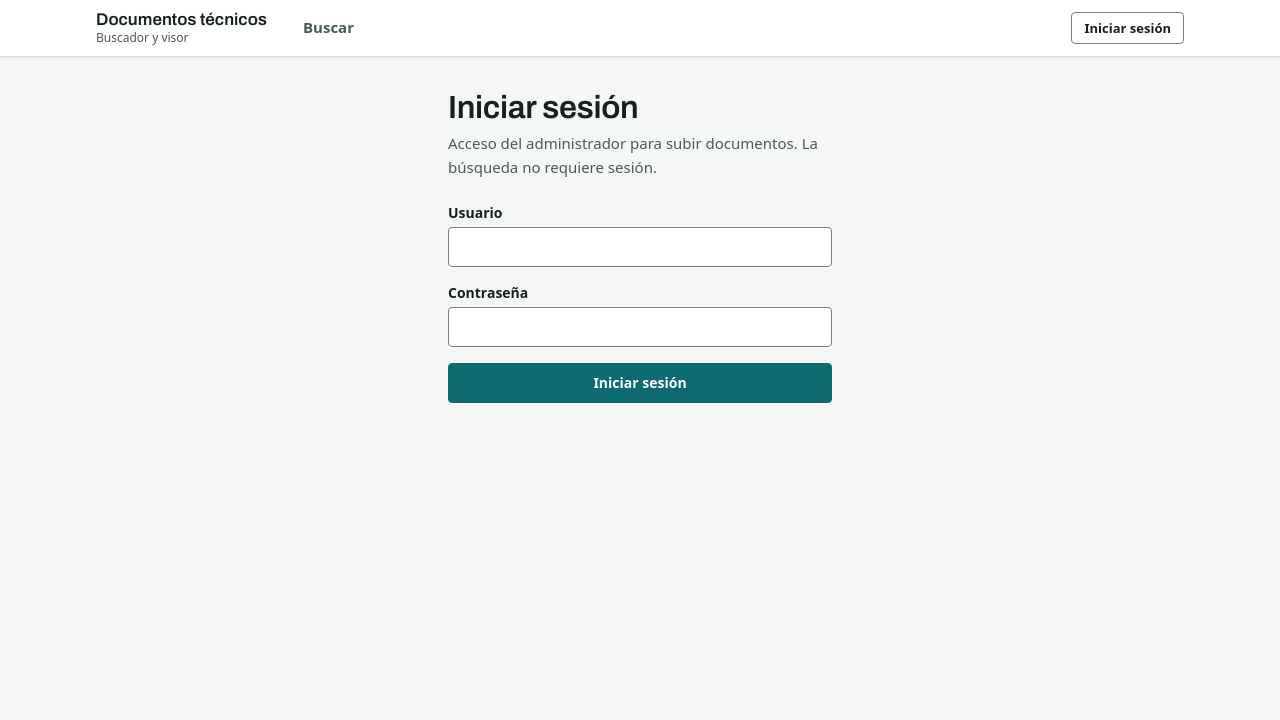
Scenario: Sesión del administrador › sin conexión con la API muestra un mensaje en español
Type "admin" into the field labelled "Usuario" at (640, 247), box [448,227,832,267]
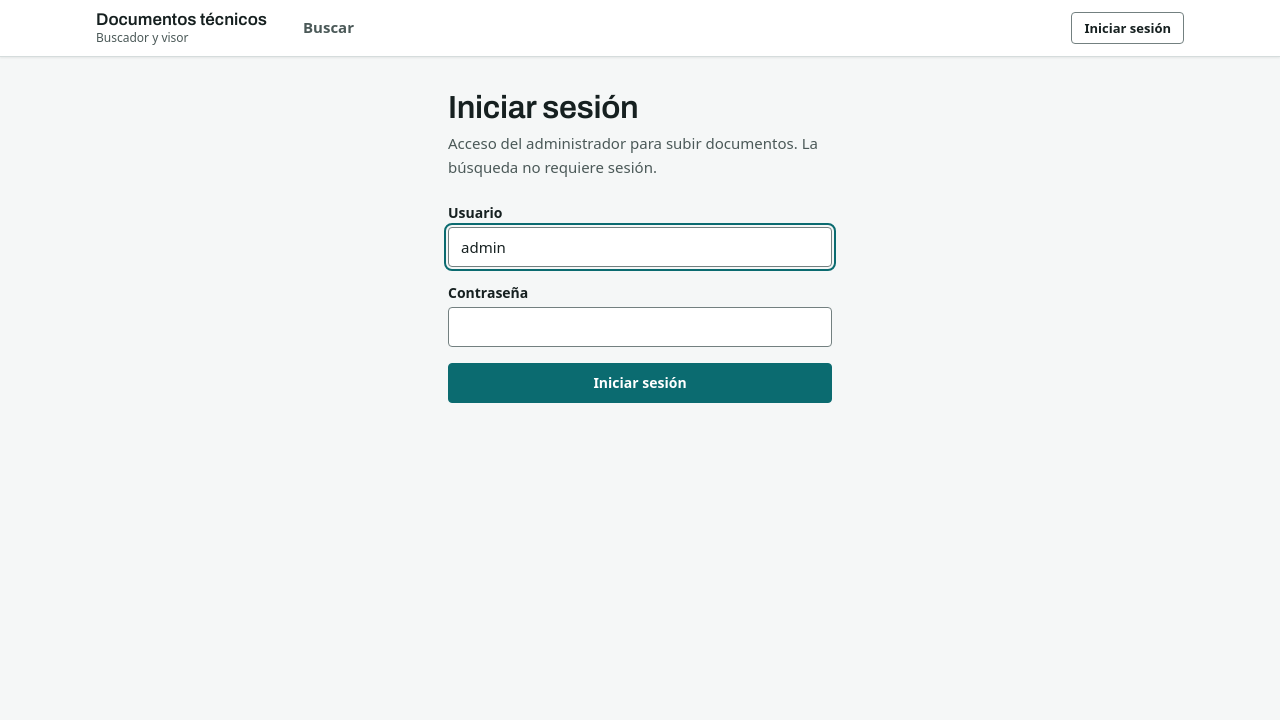
Type "clave" into the password field labelled "Contraseña" at (640, 327), box [448,307,832,347]
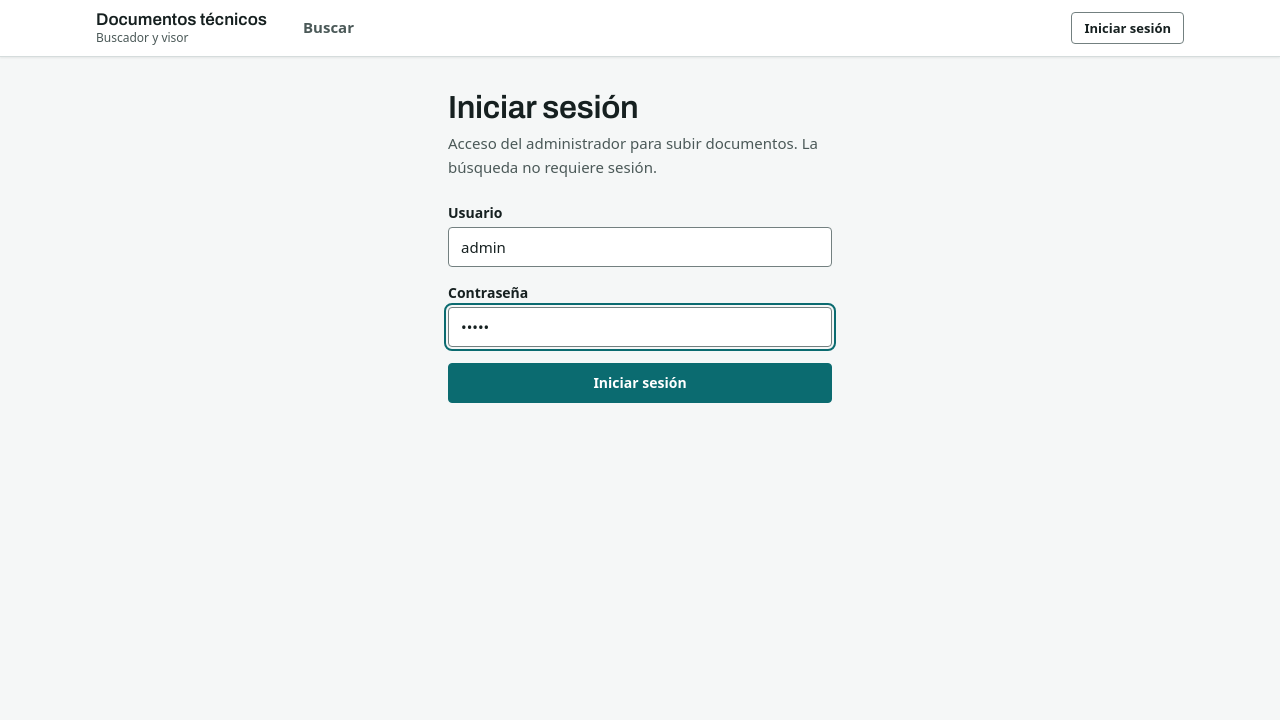
Click the button "Iniciar sesión" at (640, 383), box [448,363,832,403]
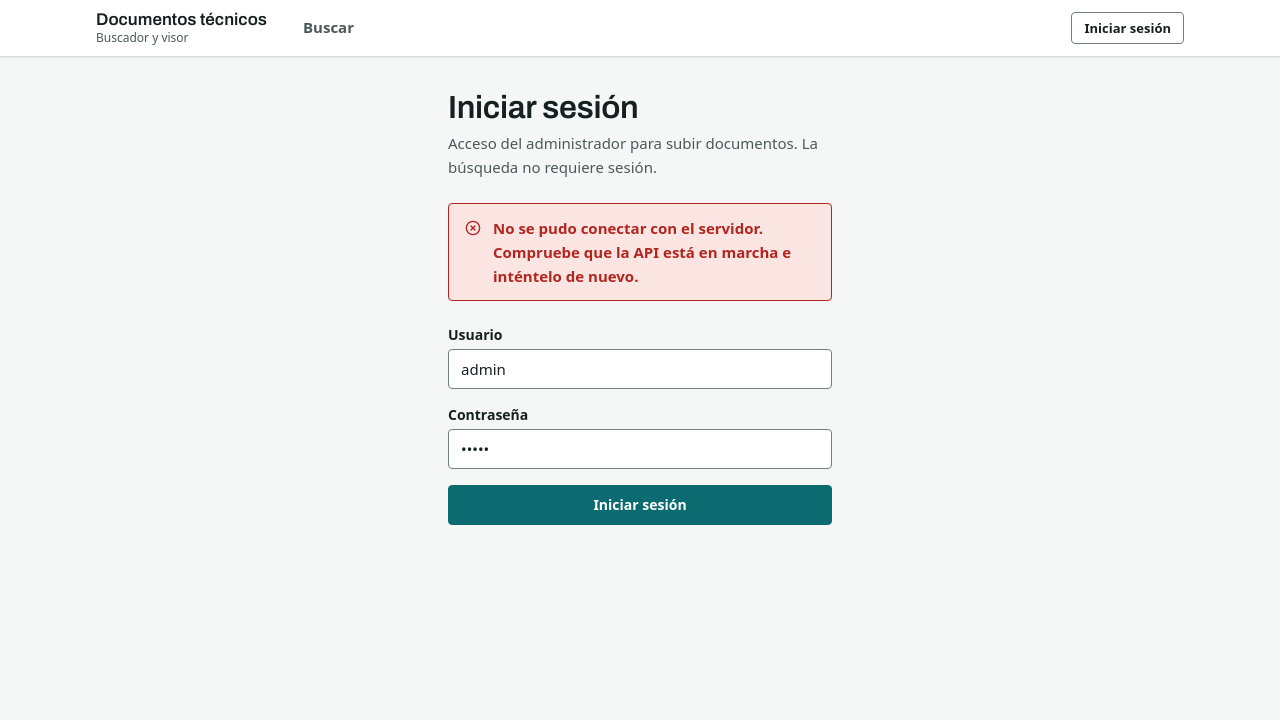
Expected: the message shows "No se pudo conectar con el servidor", [493,218,791,286]
